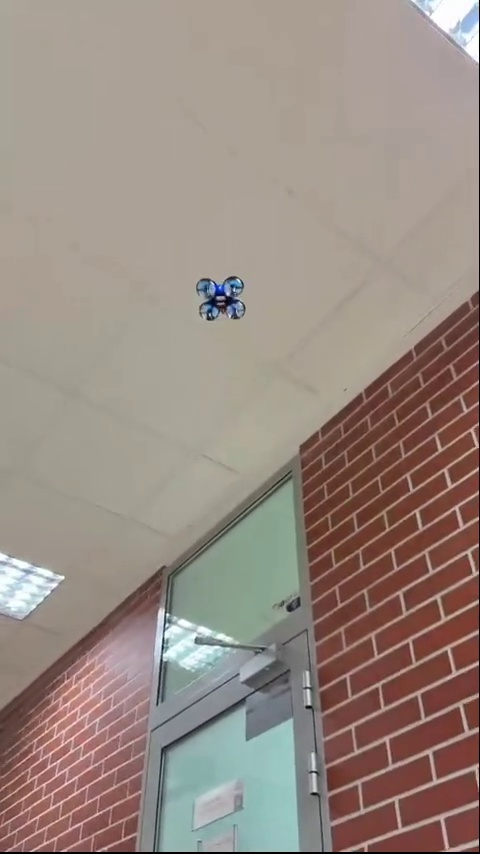drone: (197, 282, 253, 325)
